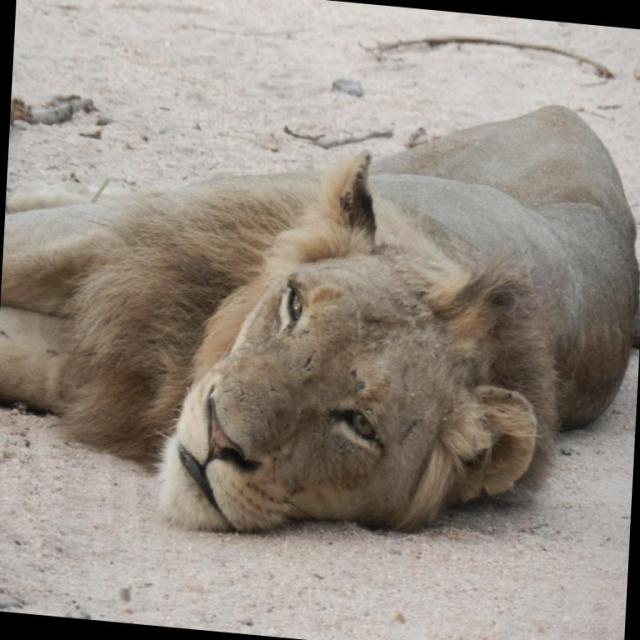Lion: (0, 51, 639, 571)
